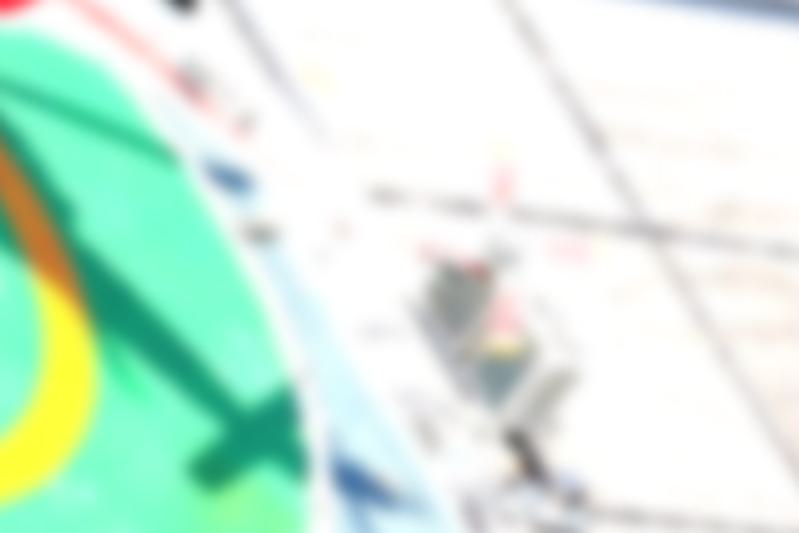Apron: (1, 108, 120, 515)
